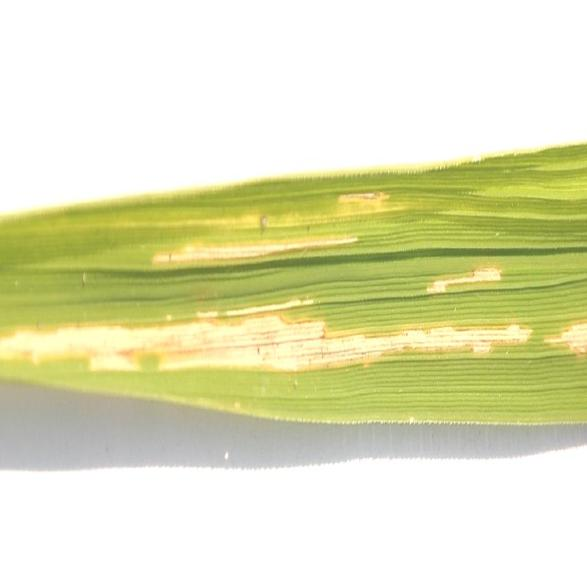Bacteria_Leaf_Blight: (145, 153, 524, 321), (1, 288, 587, 389)
